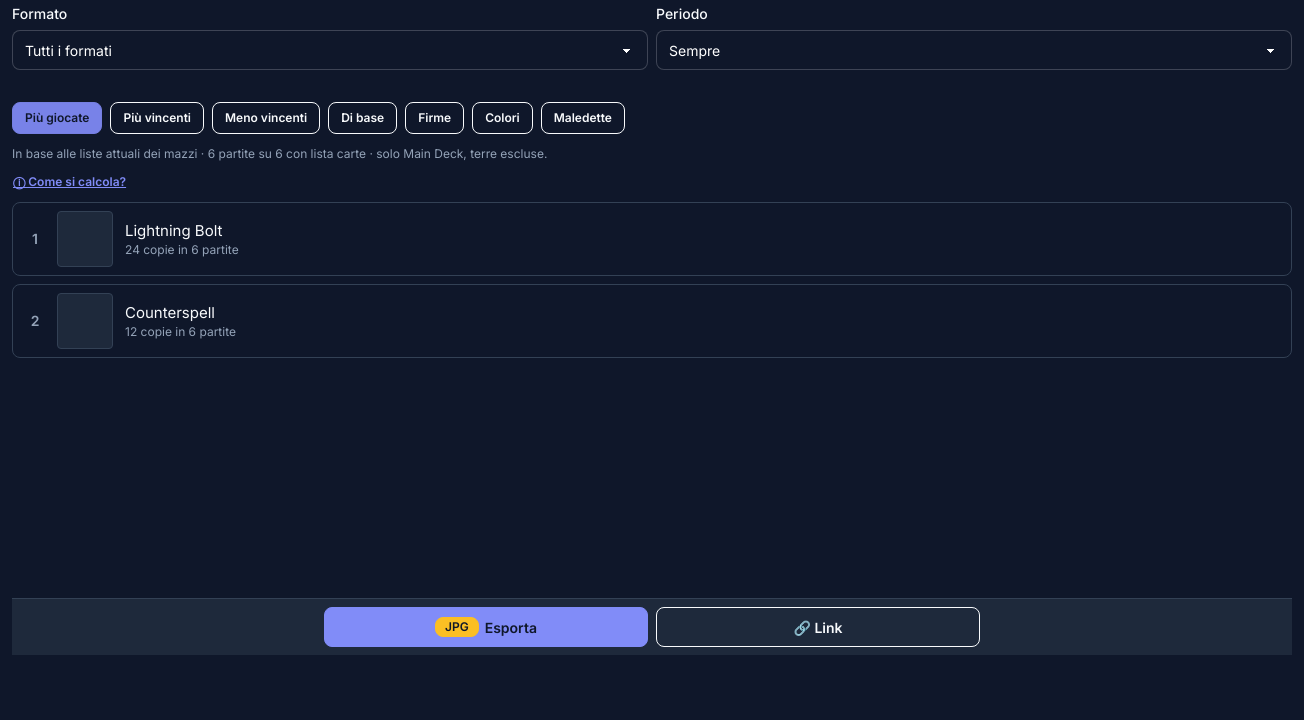
CardStats › lists cursed cards by the wins they missed against the group average
The image size is (1304, 720).
What coordinates should you click on to do the following:
click the button "Maledette"
I would click on:
 (583, 118)
Its box is [541,102,625,134].
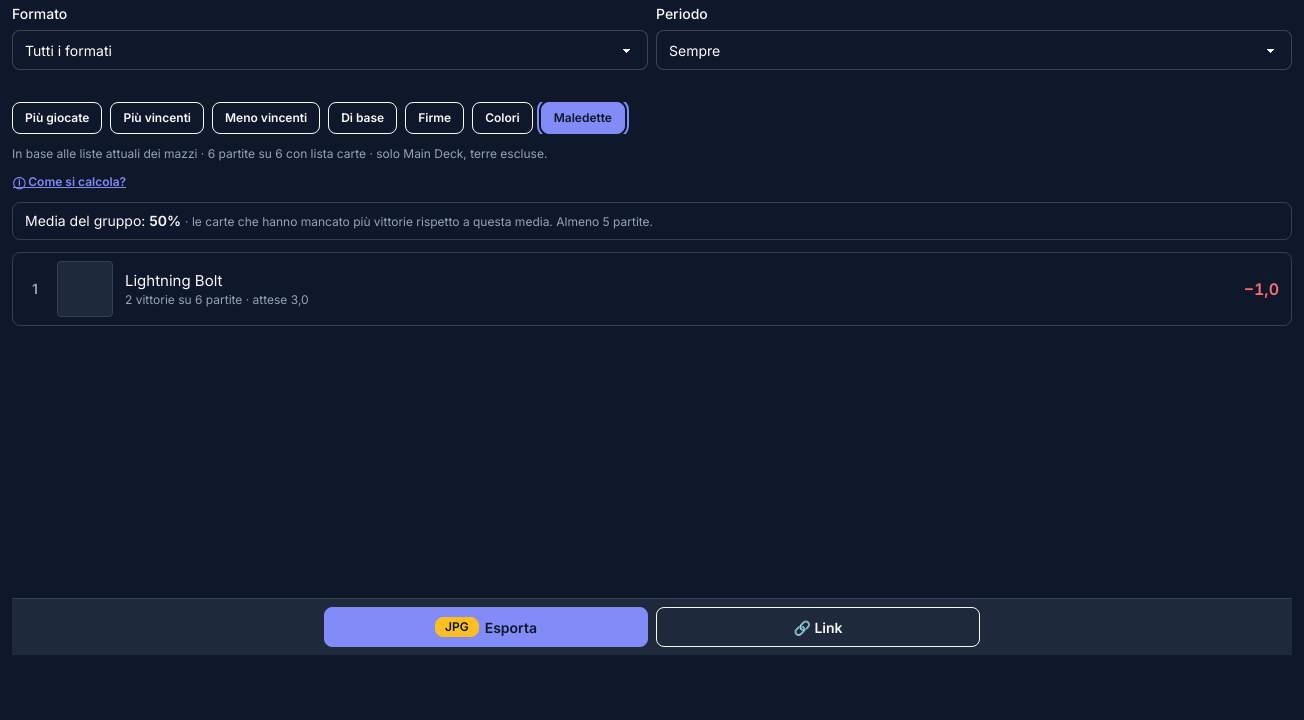
Expected: the list item "Lightning Bolt" shows "2 vittorie su 6 partite · attese 3,0", [12,252,1292,326]
Expected: the list item "Lightning Bolt" shows "−1,0", [12,252,1292,326]
Expected: the button "Counterspell" is gone
